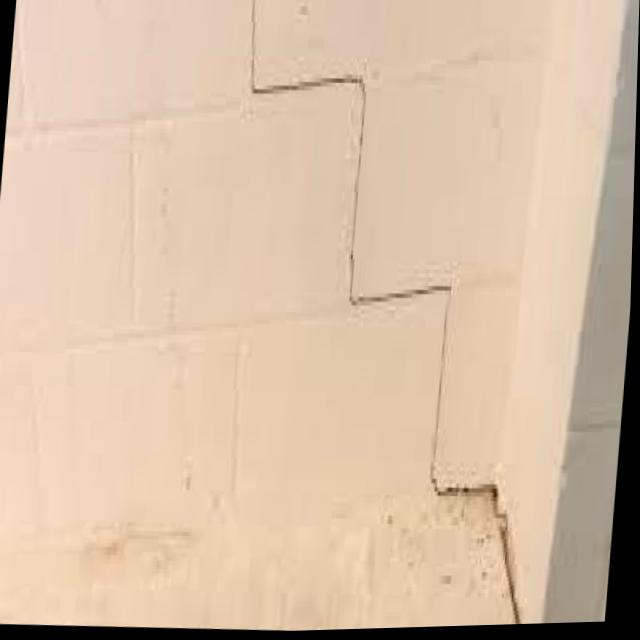Crack: (184, 11, 538, 553)
